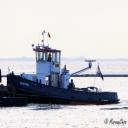tugboat: (7, 44, 122, 109)
